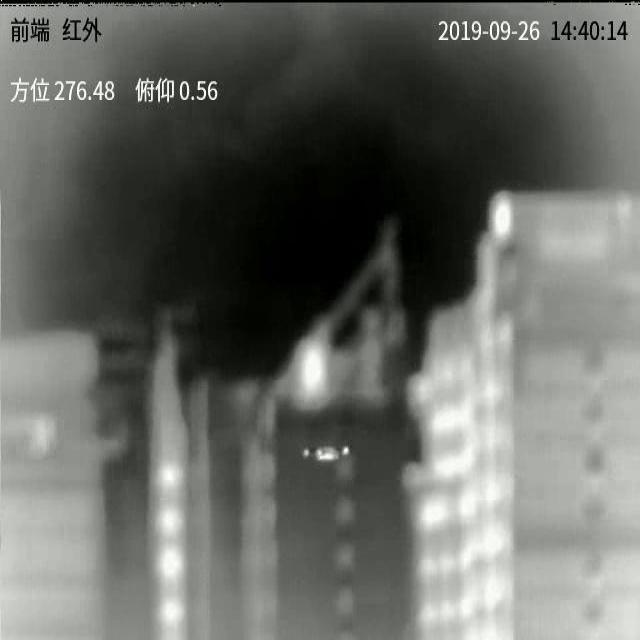drone: (302, 446, 350, 463)
